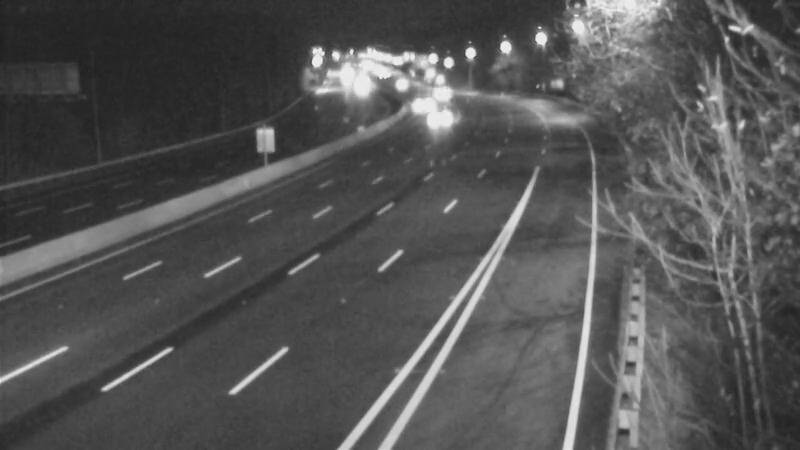vehicle: (373, 61, 423, 111), (414, 64, 464, 114), (394, 78, 444, 128), (410, 98, 460, 148)
